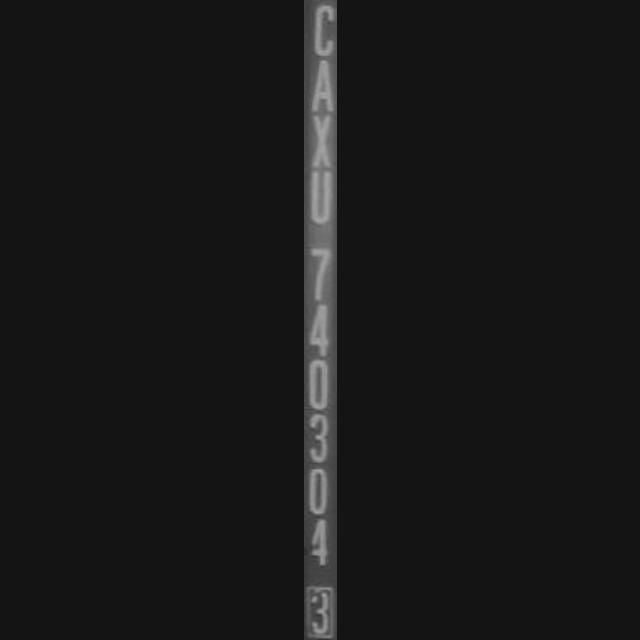0: (304, 356, 336, 412), (304, 464, 336, 514)
3: (304, 586, 336, 640), (304, 410, 336, 462)
4: (304, 298, 336, 358), (304, 514, 336, 568)
7: (304, 240, 336, 302)
a: (304, 54, 336, 112)
c: (308, 0, 336, 58)
u: (304, 169, 336, 227)
x: (304, 111, 336, 170)
